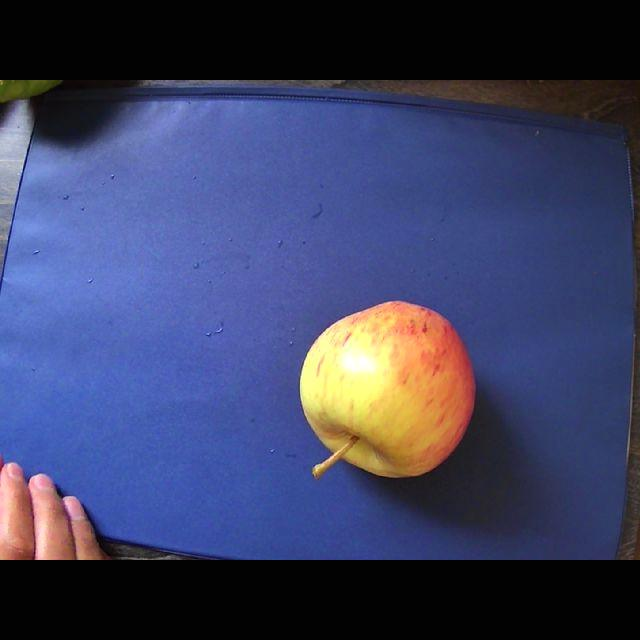manzana: (301, 301, 476, 477)
